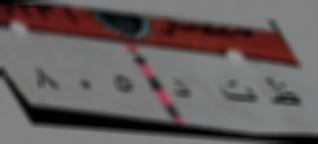0: (77, 74, 95, 94)
5: (108, 69, 138, 103)
8: (28, 64, 62, 98)
Thaa: (261, 75, 302, 109)
daal: (171, 76, 190, 102)
taa: (216, 77, 258, 105)
